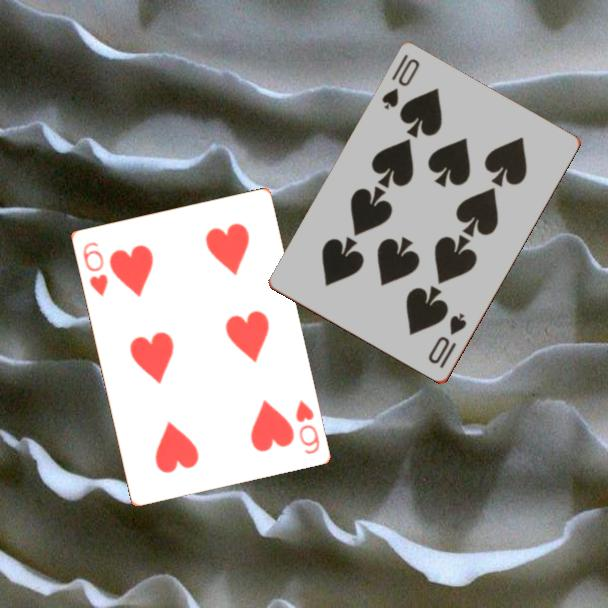h06: (79, 238, 111, 299), (292, 396, 322, 457)
s10: (424, 310, 470, 372), (378, 51, 423, 113)
